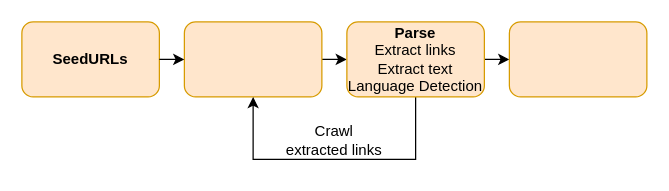
The diagram is 669 pixels wide and 191 high, and some of its shapes have lost their labels. The box of each missing label's shape, as (x1, y1, x2, y2) in pixels:
Crawl Download HTML: (183, 21, 322, 97)
Finalize: (508, 21, 647, 97)
